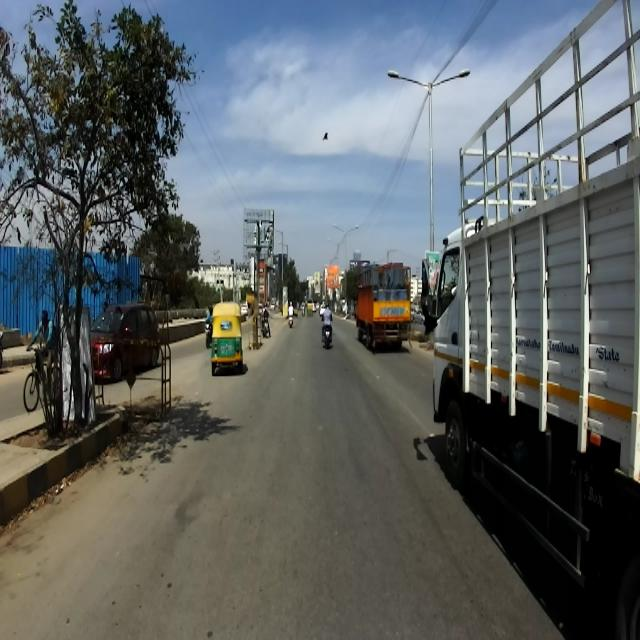Car: (89, 303, 159, 382)
truck: (420, 0, 640, 568), (352, 262, 415, 354)
